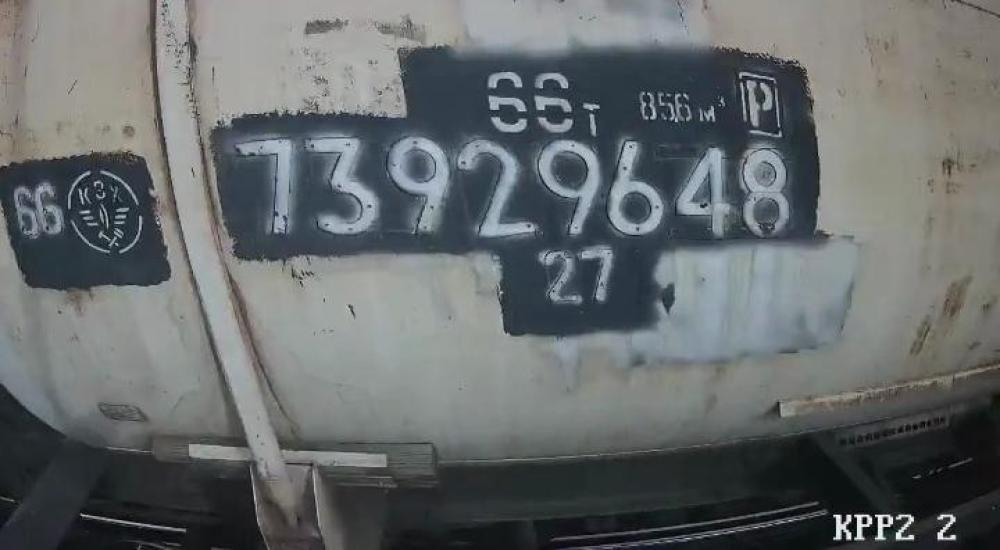Wagon-number: (230, 130, 793, 243)
